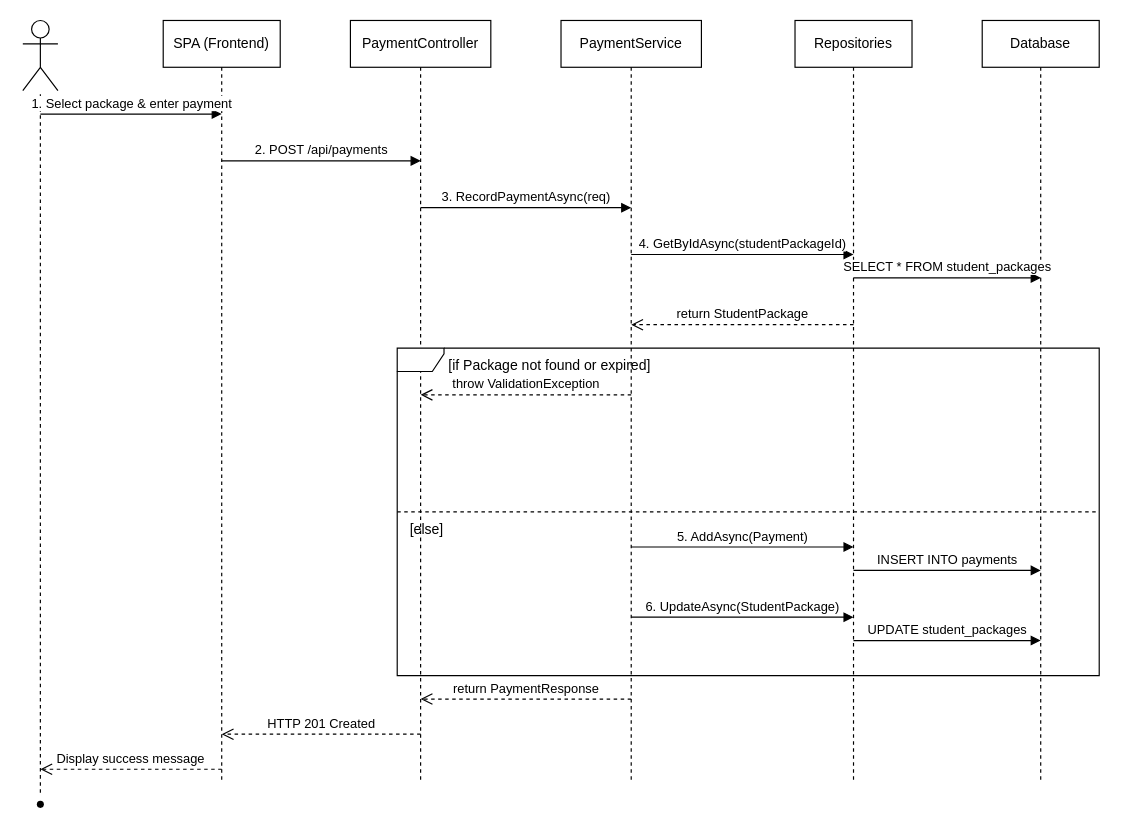
Image size: 1121x837. Some labels were removed from this diagram. Here are the shapes that lost their labels. From the top down, the box of each, then its label:
(22, 19, 58, 91): Admin
(396, 347, 1099, 676): alt
